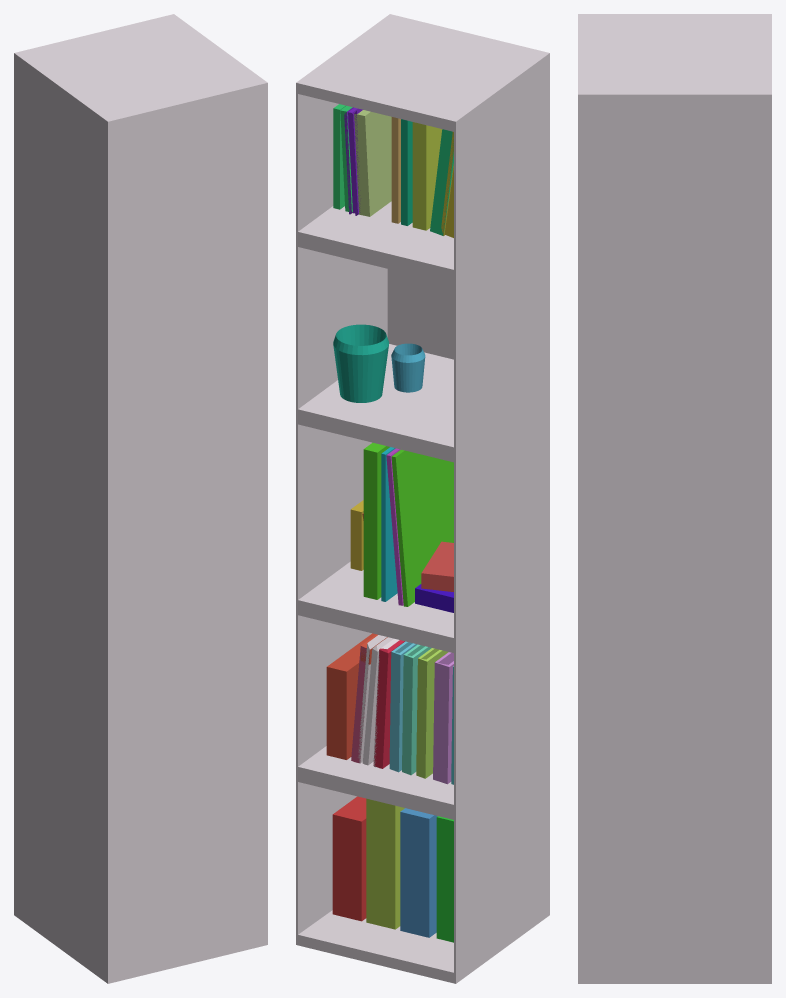
File: bookcase_visual.dae
3 renders of one model, left to right at view 1: azimuth 30°, elevation 25°; view 2: azimuth 150°, elevation 25°; view 3: azimuth 270°, elevation 25°, orthographic. The views are drawn at different scales.
Visible parts, largest first — view 1: Cube_001; view 2: Cube_001; view 3: Cube_001.
Part boxes in pixels (box(x1,y1,x2,y2)): Cube_001: box(14, 14, 267, 983); Cube_001: box(296, 14, 549, 983); Cube_001: box(578, 14, 771, 983).
Bounding box in the file's own units: 0.3817 × 0.3884 × 1.97.
